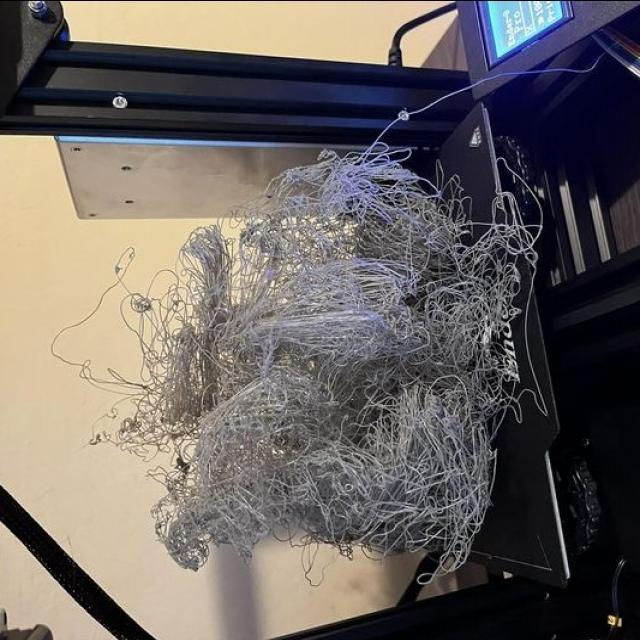Spaghetti: (159, 380, 305, 552), (171, 238, 343, 374), (308, 400, 438, 546), (422, 336, 489, 550), (341, 264, 436, 380), (276, 164, 432, 228), (424, 228, 509, 320), (131, 291, 179, 378), (107, 402, 171, 457)
